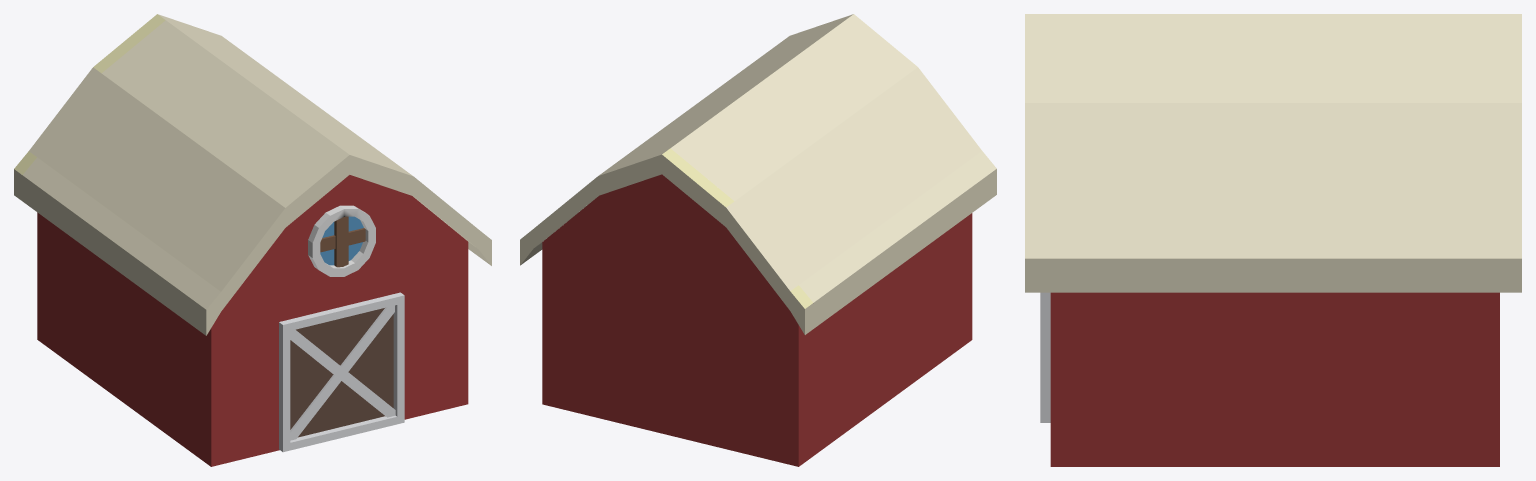
The model's file is house8.glb.
3 renders of one model, left to right at view 1: azimuth 30°, elevation 25°; view 2: azimuth 150°, elevation 25°; view 3: azimuth 270°, elevation 25°, orthographic. The views are drawn at different scales.
Visible parts, largest first — view 1: Cube, Cube.003, Cylinder, Cube.001; view 2: Cube; view 3: Cube, Cube.003.
Part boxes in pixels (x1,y1,x2,y2): Cube: (14, 14, 491, 466); Cube.003: (279, 292, 404, 452); Cylinder: (308, 205, 375, 276); Cube.001: (320, 216, 365, 267); Cube: (520, 14, 996, 466); Cube: (1025, 14, 1521, 466); Cube.003: (1040, 292, 1050, 422).
Size of the model in its own units: 4.7 by 4.53 by 5.48.
